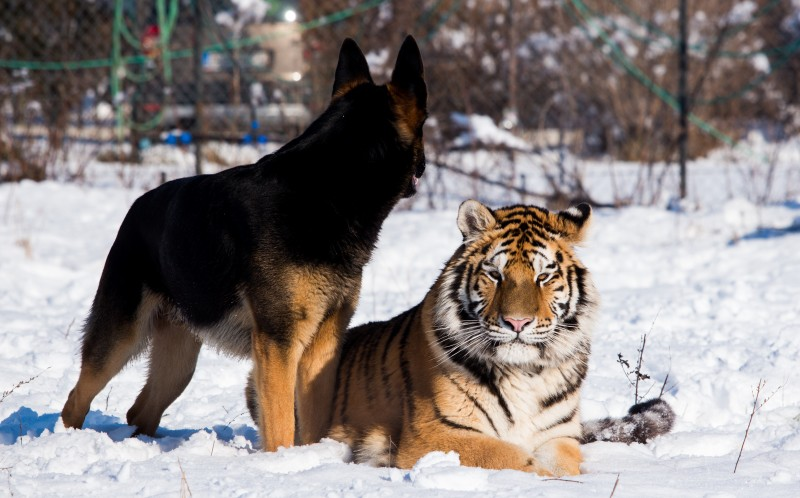dog: (48, 35, 430, 448)
tiger: (230, 200, 679, 475)
